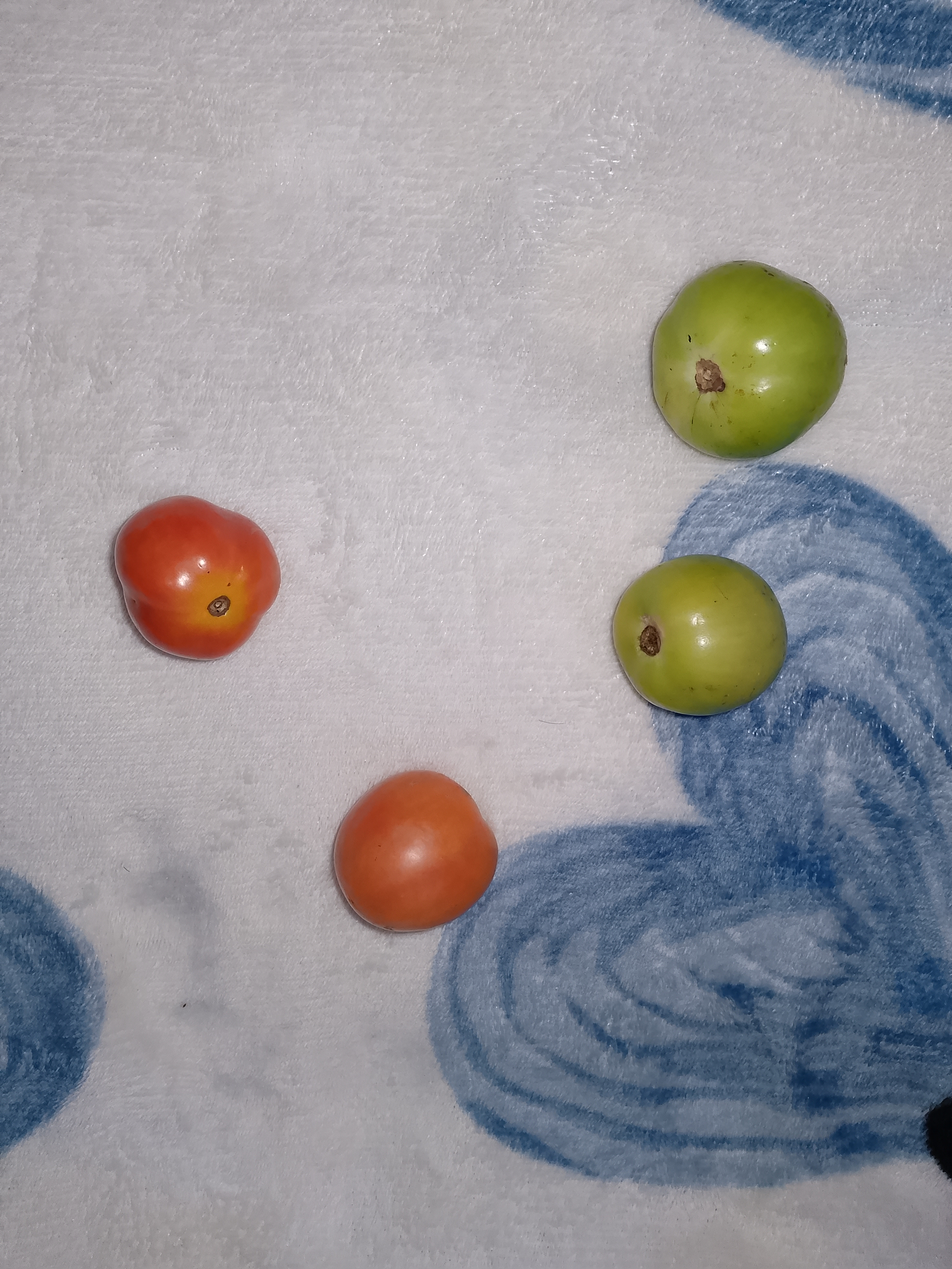Ripe: (291, 732, 530, 947), (93, 480, 306, 677)
Unripe: (584, 239, 896, 472), (602, 540, 792, 721)
